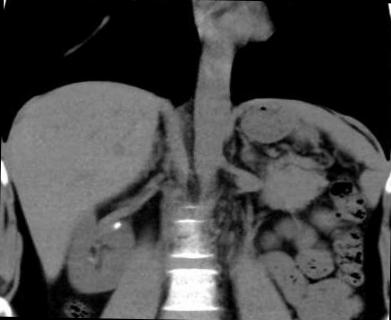Tas_Var: (110, 220, 123, 231)
